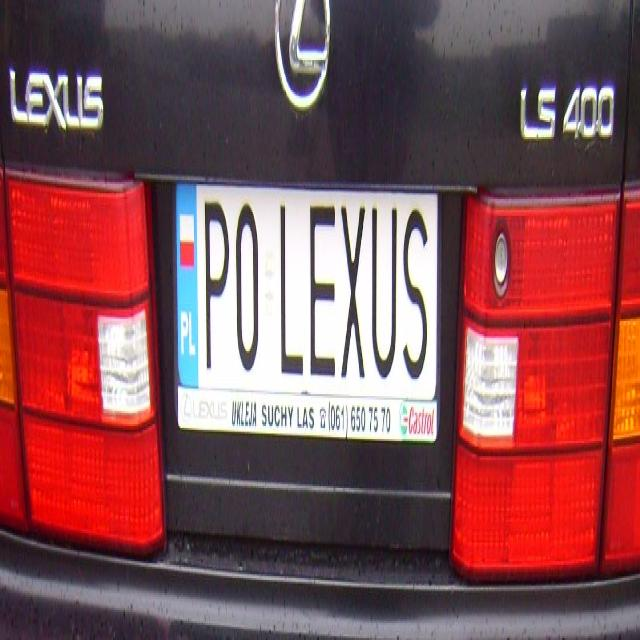pl_license_plate: (175, 178, 437, 398)
